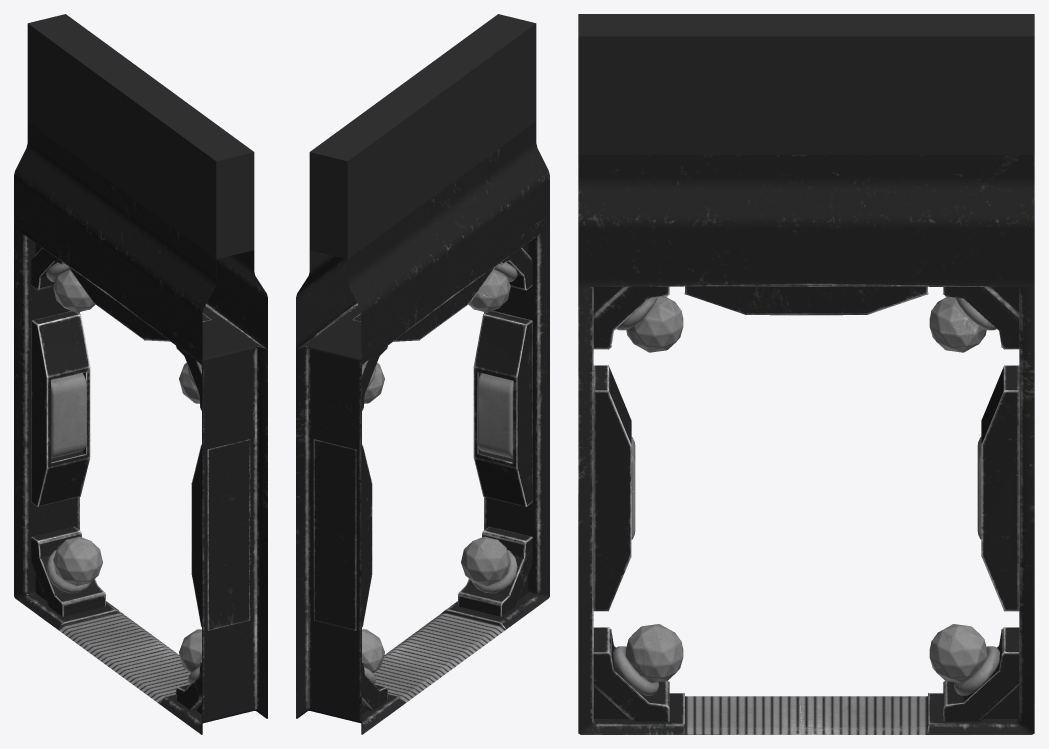
File: cremation.fbx
3 renders of one model, left to right at view 1: azimuth 30°, elevation 25°; view 2: azimuth 150°, elevation 25°; view 3: azimuth 270°, elevation 25°, orthographic. The views are drawn at different scales.
Parts seen in each view (by area): view 1: Gate; view 2: Gate; view 3: Gate.
Boxes of the visible parts, x1,y1,x2,y2 form: Gate: [14, 14, 267, 734]; Gate: [296, 14, 549, 734]; Gate: [578, 14, 1034, 734].
Size of what is drawn, in the model's own units: 120 by 1002 by 600.
